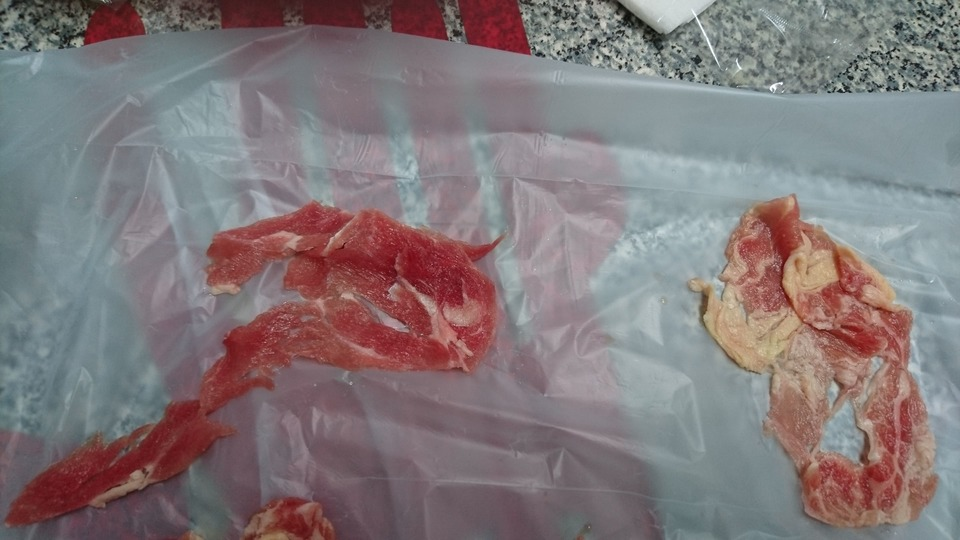restructured meat: (38, 217, 486, 508), (714, 182, 940, 526)
